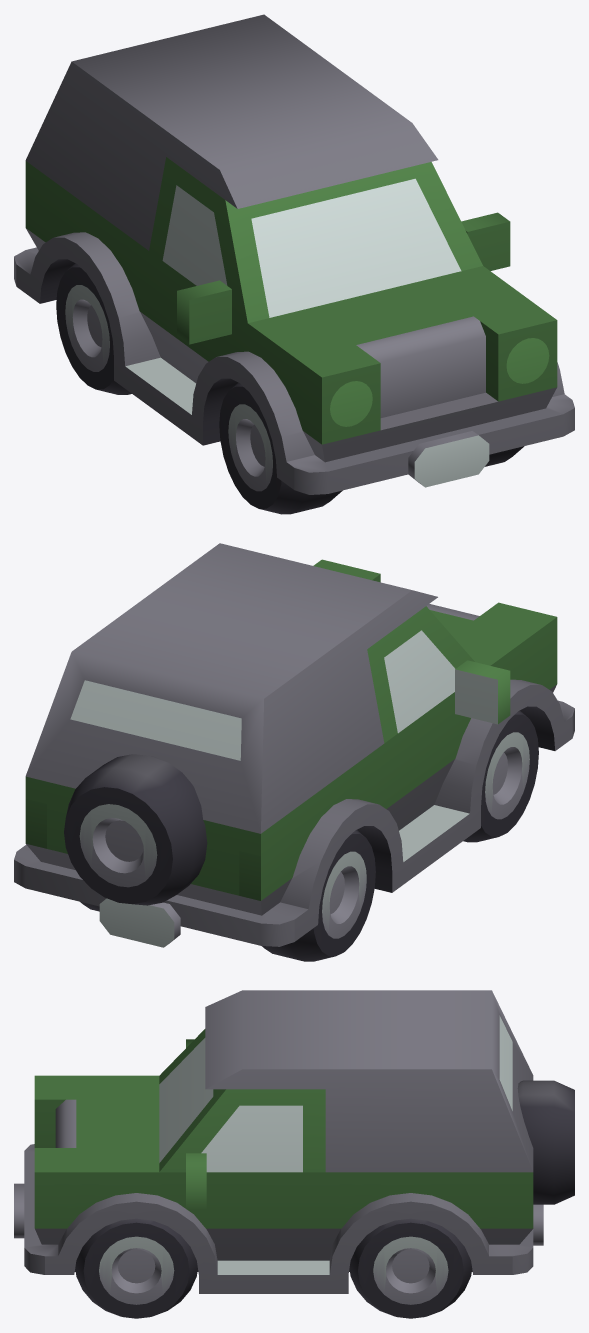
Rendered from car_green.glb.
3 views of the same model, one above another, from view 1: azimuth 30°, elevation 25°; view 2: azimuth 150°, elevation 25°; view 3: azimuth 270°, elevation 25° (orthographic). The views are drawn at different scales.
Parts seen in each view (by area): view 1: car_green; view 2: car_green; view 3: car_green.
Part boxes in pixels (x1,y1,x2,y2): car_green: (14,14,574,514); car_green: (14,543,574,961); car_green: (14,990,574,1318).
Size of the model in its own units: 1.5 by 1.3 by 2.7.
